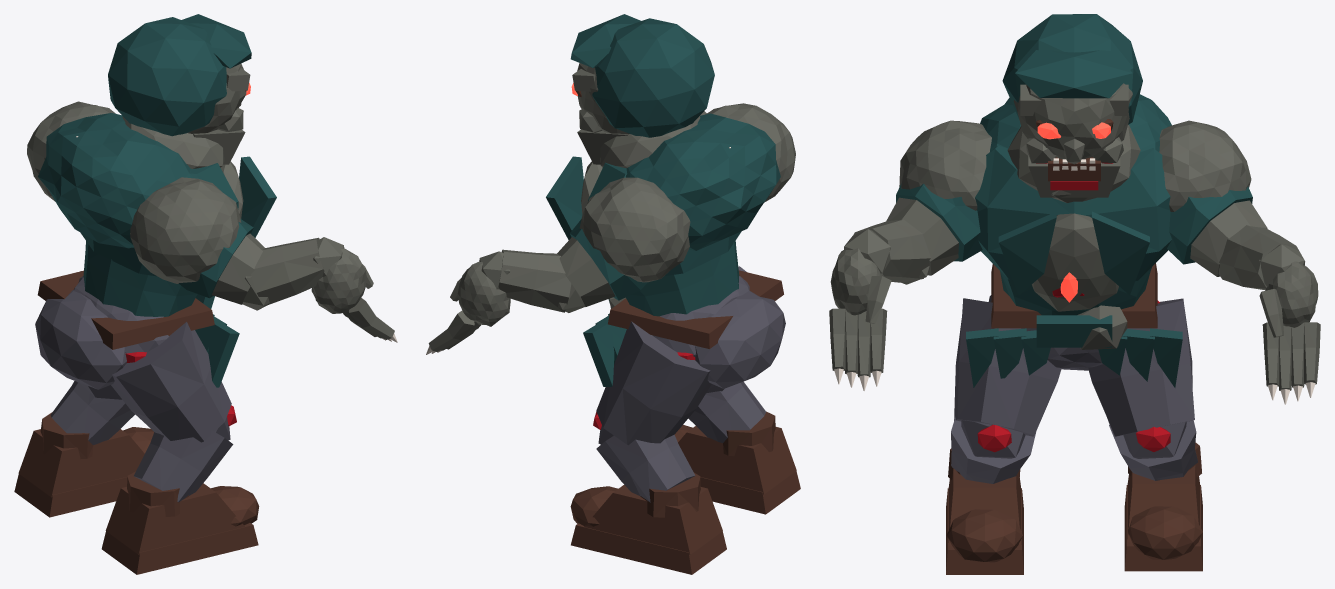
3 views of the same model, side by side, from view 1: azimuth 30°, elevation 25°; view 2: azimuth 150°, elevation 25°; view 3: azimuth 270°, elevation 25° (orthographic). The views are drawn at different scales.
Parts seen in each view (by area): view 1: torso__alpha, head__alpha, armR__alpha, footR__alpha, hip__alpha, footL__alpha, legR__alpha, shinR__alpha, handR__alpha, foreArmR__alpha, shinL__alpha, armL__alpha; view 2: torso__alpha, head__alpha, armL__alpha, footL__alpha, hip__alpha, legL__alpha, footR__alpha, shinL__alpha, handL__alpha, foreArmL__alpha, shinR__alpha, armR__alpha; view 3: torso__alpha, head__alpha, armL__alpha, armR__alpha, handR__alpha, footL__alpha, handL__alpha, footR__alpha, legR__alpha, legL__alpha, shinR__alpha, hip__alpha (+3 smaller).
Boxes of the visible parts, x1=… form: torso__alpha: x1=38, y1=113, x2=276, y2=387; head__alpha: x1=108, y1=14, x2=251, y2=164; armR__alpha: x1=130, y1=177, x2=264, y2=304; footR__alpha: x1=101, y1=471, x2=259, y2=574; hip__alpha: x1=35, y1=270, x2=214, y2=389; footL__alpha: x1=14, y1=412, x2=153, y2=517; legR__alpha: x1=111, y1=322, x2=231, y2=442; shinR__alpha: x1=134, y1=405, x2=236, y2=502; handR__alpha: x1=311, y1=237, x2=397, y2=342; foreArmR__alpha: x1=242, y1=237, x2=324, y2=310; shinL__alpha: x1=50, y1=381, x2=134, y2=444; armL__alpha: x1=27, y1=101, x2=115, y2=201; torso__alpha: x1=546, y1=113, x2=780, y2=386; head__alpha: x1=570, y1=14, x2=714, y2=164; armL__alpha: x1=557, y1=177, x2=690, y2=306; footL__alpha: x1=570, y1=472, x2=726, y2=574; hip__alpha: x1=608, y1=270, x2=785, y2=388; legL__alpha: x1=596, y1=321, x2=711, y2=445; footR__alpha: x1=674, y1=411, x2=800, y2=514; shinL__alpha: x1=593, y1=412, x2=695, y2=502; handL__alpha: x1=426, y1=251, x2=510, y2=354; foreArmL__alpha: x1=498, y1=249, x2=584, y2=312; shinR__alpha: x1=688, y1=381, x2=765, y2=443; armR__alpha: x1=705, y1=103, x2=795, y2=202; torso__alpha: x1=966, y1=94, x2=1182, y2=387; head__alpha: x1=1002, y1=14, x2=1142, y2=197; armL__alpha: x1=1159, y1=120, x2=1267, y2=276; armR__alpha: x1=886, y1=120, x2=991, y2=275; handR__alpha: x1=829, y1=229, x2=891, y2=390; footL__alpha: x1=1124, y1=442, x2=1202, y2=571; handL__alpha: x1=1259, y1=244, x2=1320, y2=404; footR__alpha: x1=946, y1=448, x2=1023, y2=574; legR__alpha: x1=954, y1=298, x2=1061, y2=436; legL__alpha: x1=1088, y1=298, x2=1194, y2=436; shinR__alpha: x1=951, y1=417, x2=1035, y2=483; hip__alpha: x1=988, y1=263, x2=1157, y2=370.
Size of the model in its own units: 1.23 by 2.35 by 1.95.
